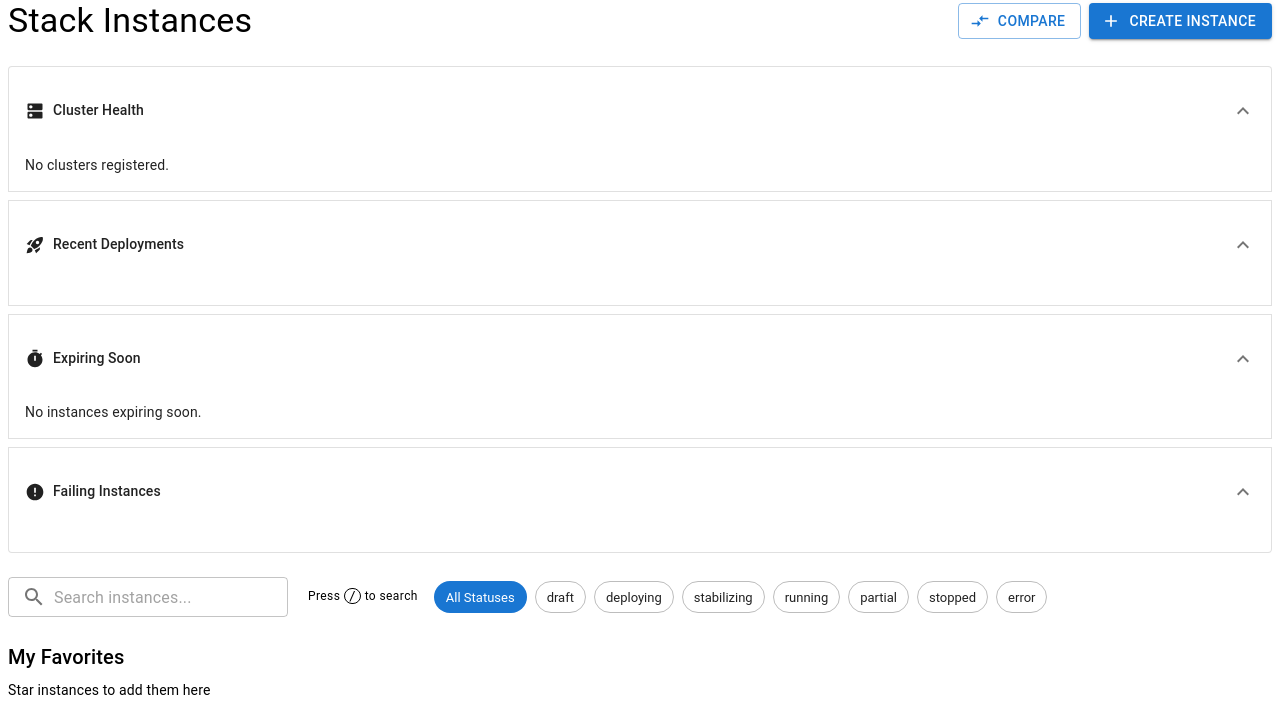
Test: Dashboard › loads all instances, not only the first API page, and shows the count
Click the button "running".
click(806, 597)  # box x1=773 y1=581 x2=840 y2=613
(page scrolled)
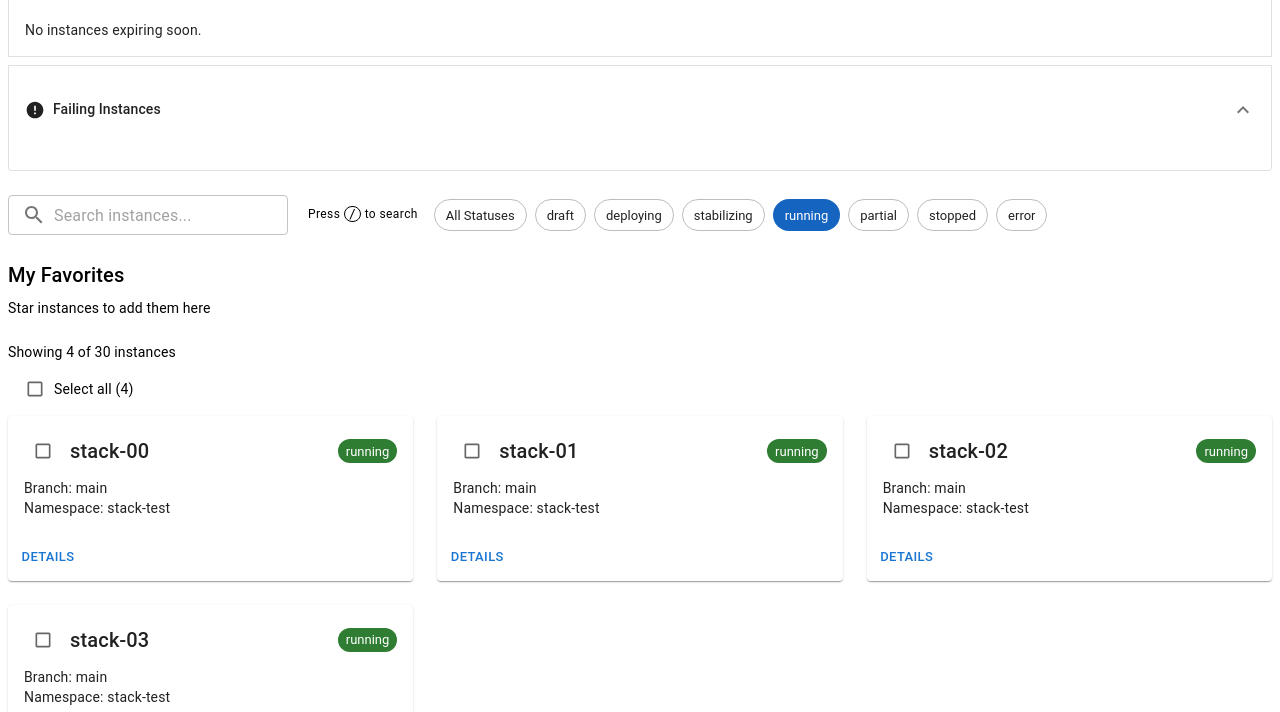
Now the text "Showing 4 of 30 instances" is shown, box x1=8 y1=344 x2=176 y2=360
